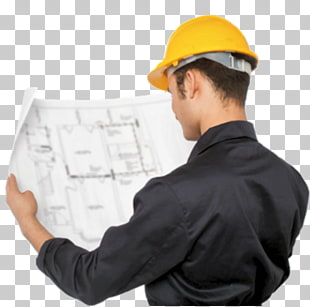casco: (147, 14, 260, 93)
